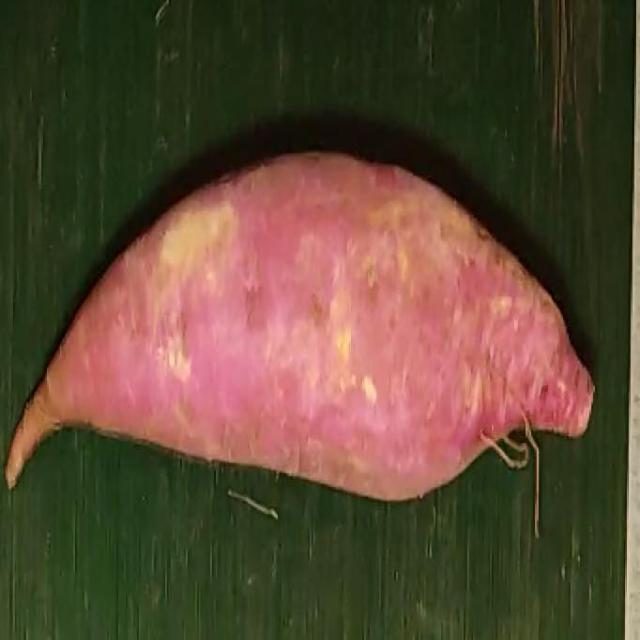Sweet Potato: (7, 153, 597, 504)
